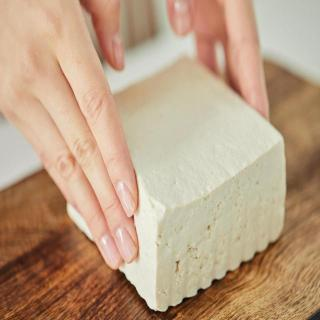Tahu: (42, 62, 312, 308)
